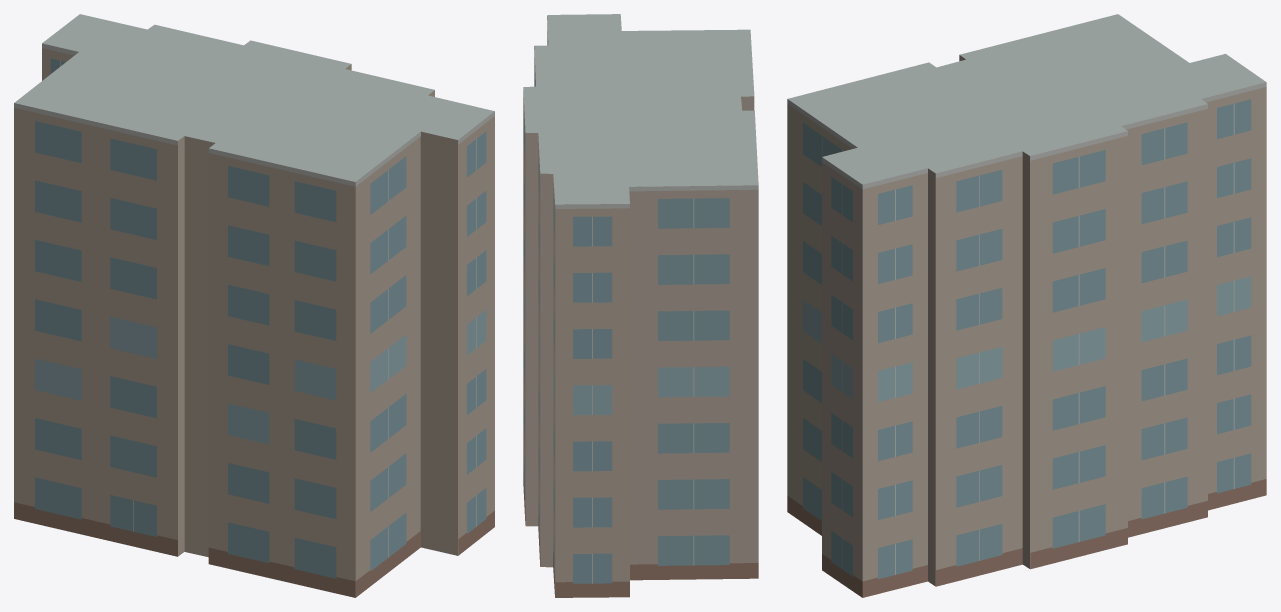
The model's file is survey-upis-32747489.glb.
The picture shows the model from 3 angles, left to right: view 1: azimuth 30°, elevation 25°; view 2: azimuth 150°, elevation 25°; view 3: azimuth 270°, elevation 25°; orthographic projection. The views are drawn at different scales.
Visible parts, largest first — view 1: survey-upis-32747489.tmp; view 2: survey-upis-32747489.tmp; view 3: survey-upis-32747489.tmp.
Part boxes in pixels (x1,y1,x2,y2): survey-upis-32747489.tmp: [14, 14, 494, 597]; survey-upis-32747489.tmp: [523, 14, 758, 597]; survey-upis-32747489.tmp: [787, 14, 1266, 597].
Size of the model in its own units: 19.06 by 21.5 by 22.6.
